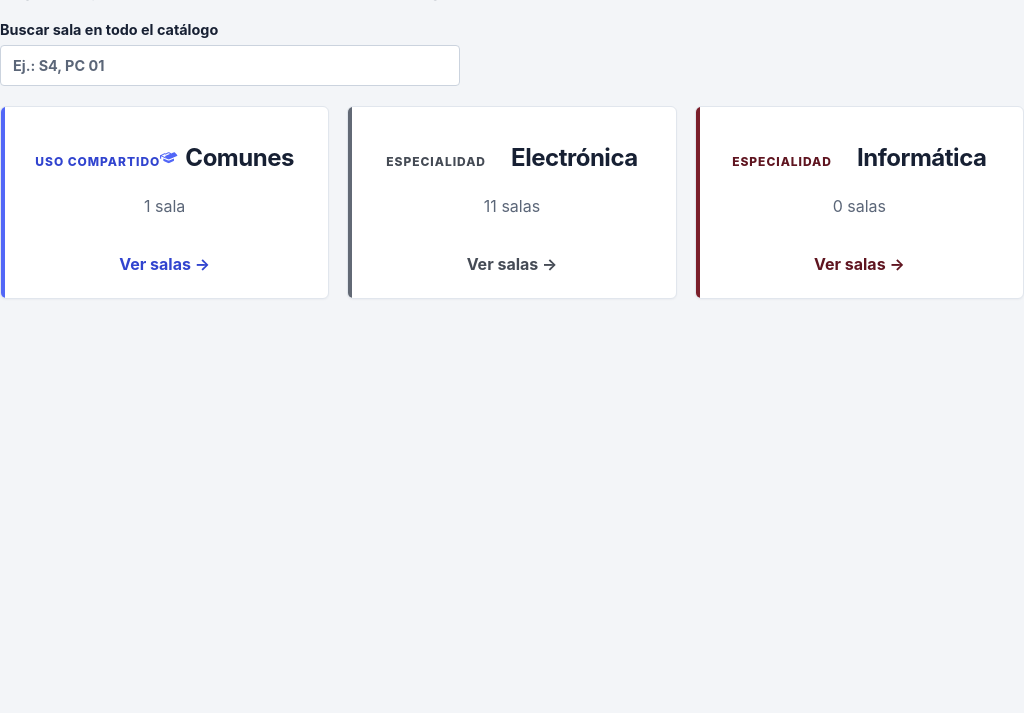
Scenario: muestra cajas con conteos, especialidades vacías y paginación con regreso
expect the button "Uso compartido Comunes 1 sala Ver salas →" is shown: met, box [0, 106, 329, 299]
expect the button "Especialidad Informática 0 salas Ver salas →" is shown: met, box [695, 106, 1023, 299]
Click the button "Especialidad Electrónica 11 salas Ver salas →" at {"x": 512, "y": 202}, box [347, 106, 677, 299]
(page scrolled)
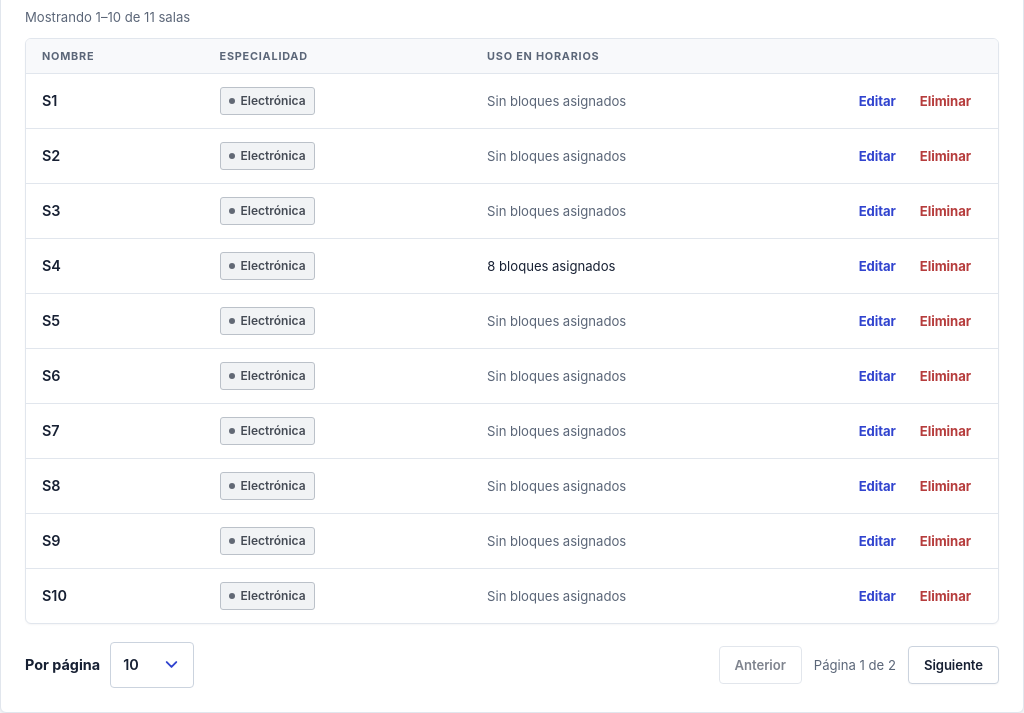
expect the message shows "1–10 de 11 salas": met, box [25, 9, 190, 25]
expect the text "8 bloques asignados" is shown: met, box [487, 258, 616, 274]
Click the button "Siguiente" at {"x": 953, "y": 665}, box [908, 646, 999, 684]
(page scrolled)
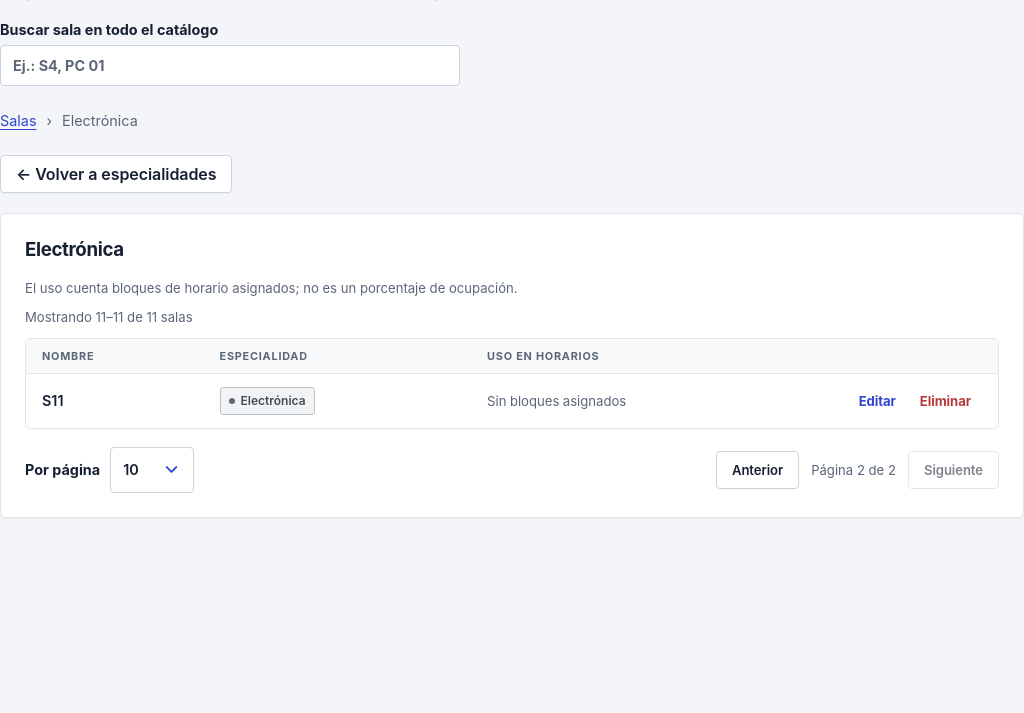
expect the column heading "S11" is shown: met, box [26, 374, 204, 428]
Click the button "← Volver a especialidades" at {"x": 116, "y": 174}, box [0, 155, 232, 193]
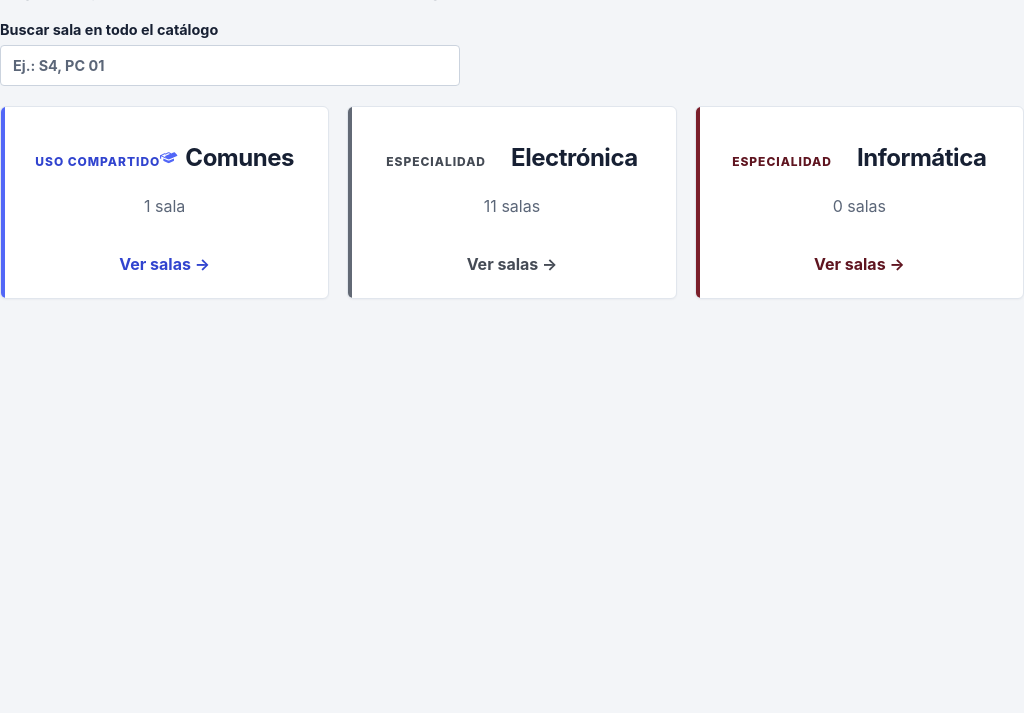
expect the button "Uso compartido Comunes 1 sala Ver salas →" is shown: met, box [0, 106, 329, 299]
